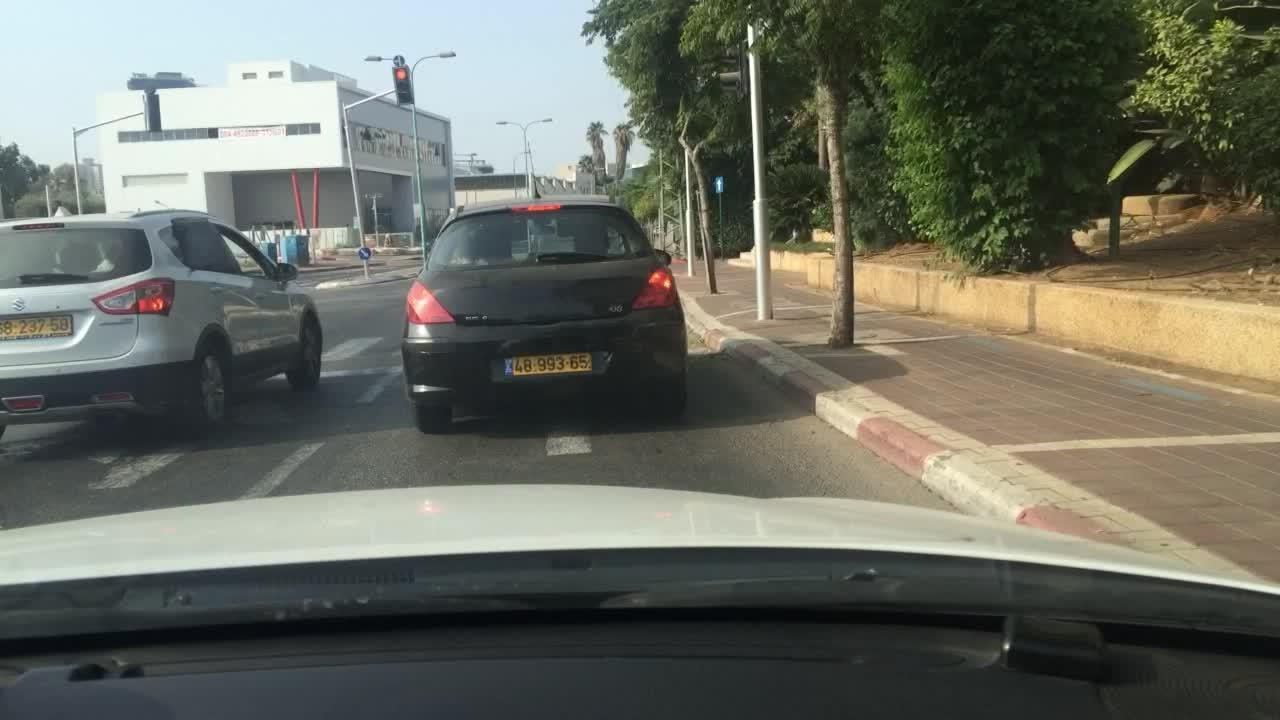suzuki: (10, 293, 27, 316)
